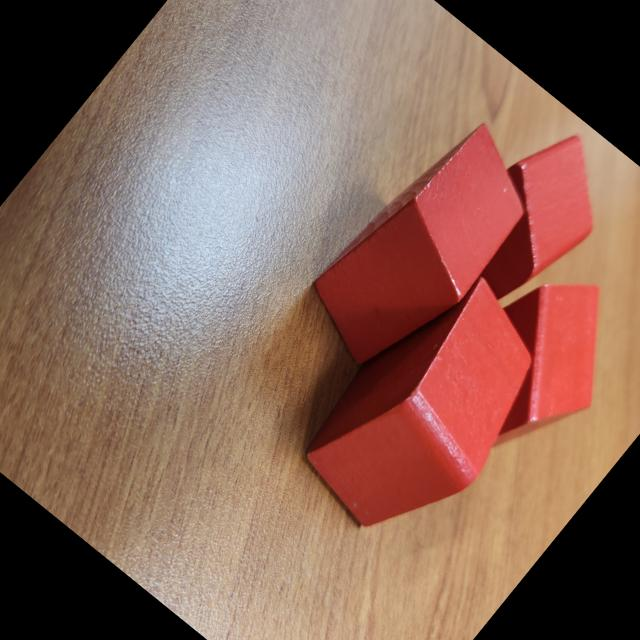red: (286, 255, 578, 564), (288, 102, 558, 393), (426, 244, 640, 483), (435, 112, 635, 324)
